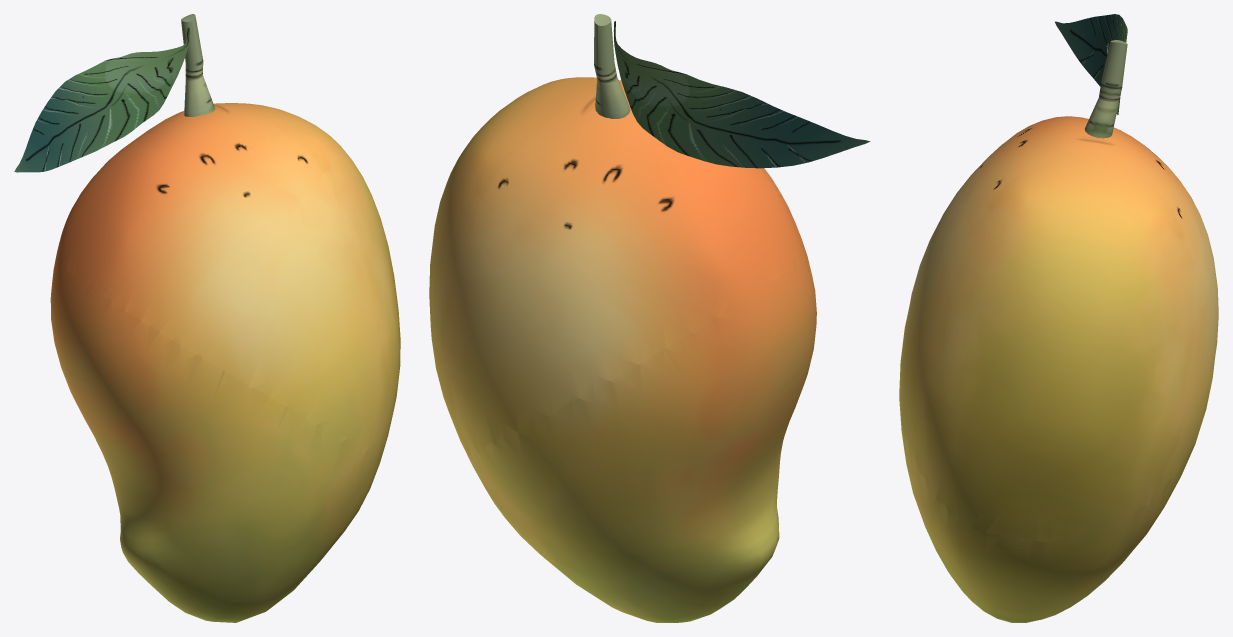
The model's file is mango.fbx.
The picture shows the model from 3 angles, left to right: view 1: azimuth 30°, elevation 25°; view 2: azimuth 150°, elevation 25°; view 3: azimuth 270°, elevation 25°; orthographic projection. The views are drawn at different scales.
Parts seen in each view (by area): view 1: Mango, Mango_cut_B, Mango_cut_A; view 2: Mango, Mango_cut_A, Mango_cut_B; view 3: Mango, Mango_cut_A, Mango_cut_B.
Boxes of the visible parts, x1=… form: Mango: x1=14, y1=14, x2=400, y2=622; Mango_cut_B: x1=55, y1=263, x2=382, y2=485; Mango_cut_A: x1=56, y1=243, x2=389, y2=454; Mango: x1=429, y1=14, x2=870, y2=622; Mango_cut_A: x1=450, y1=239, x2=806, y2=453; Mango_cut_B: x1=466, y1=254, x2=810, y2=485; Mango: x1=899, y1=14, x2=1218, y2=622; Mango_cut_A: x1=899, y1=379, x2=1212, y2=540; Mango_cut_B: x1=901, y1=423, x2=1199, y2=565.
Size of the model in its own units: 896 by 1308 by 653.
1 material, 1 textured.
